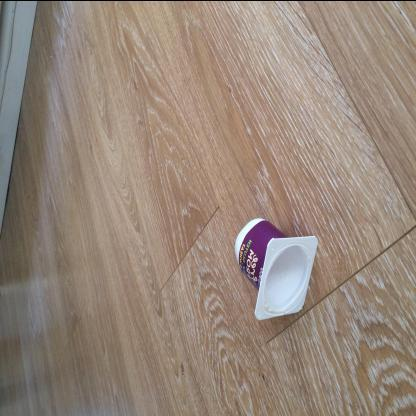plastik: (235, 218, 319, 321)
